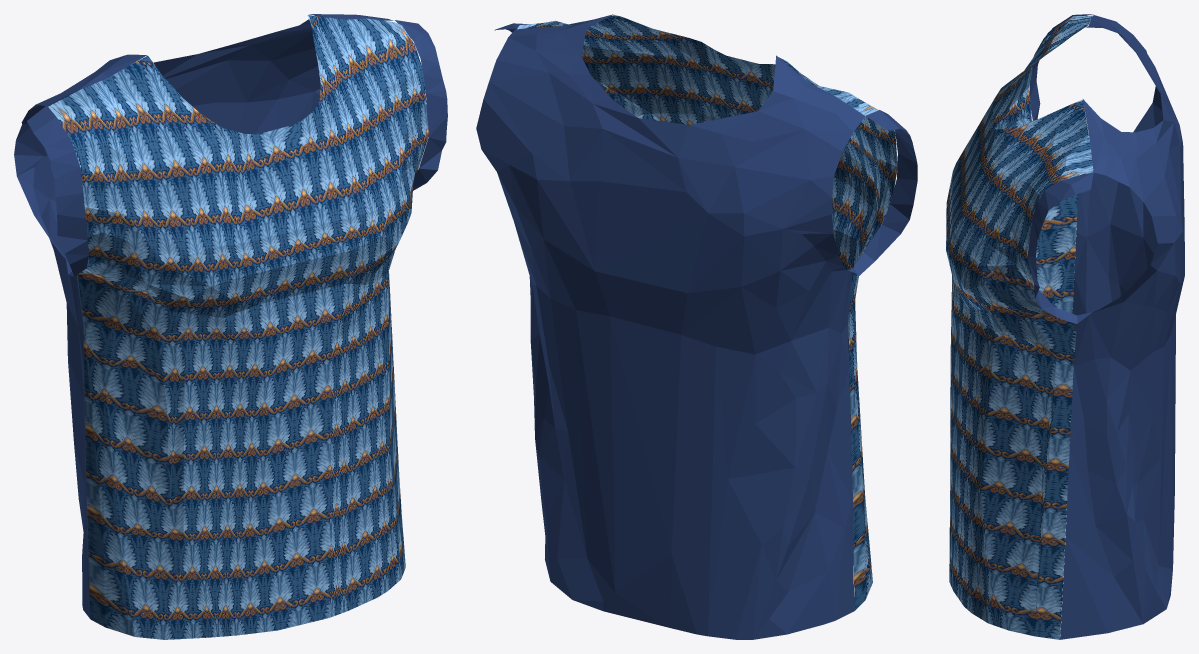
The picture shows the model from 3 angles, left to right: view 1: azimuth 30°, elevation 25°; view 2: azimuth 150°, elevation 25°; view 3: azimuth 270°, elevation 25°; orthographic projection. The views are drawn at different scales.
Parts seen in each view (by area): view 1: T_shirt.005; view 2: T_shirt.005; view 3: T_shirt.005.
Part boxes in pixels (box(x1,y1,x2,y2)): T_shirt.005: box(14, 14, 447, 639); T_shirt.005: box(476, 14, 917, 639); T_shirt.005: box(946, 14, 1184, 639).
Bounding box in the file's own units: 0.2935 × 0.3892 × 0.1639.
2 materials, 1 textured.
